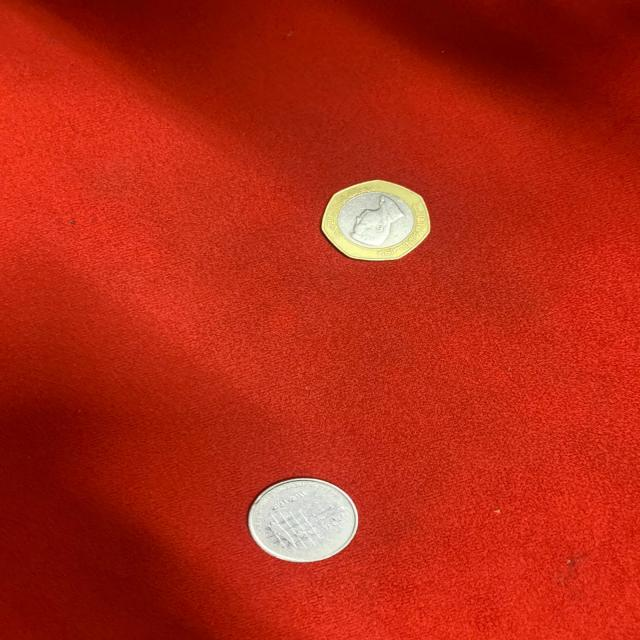10-coins: (248, 477, 360, 563)
50-coins: (320, 178, 430, 260)
